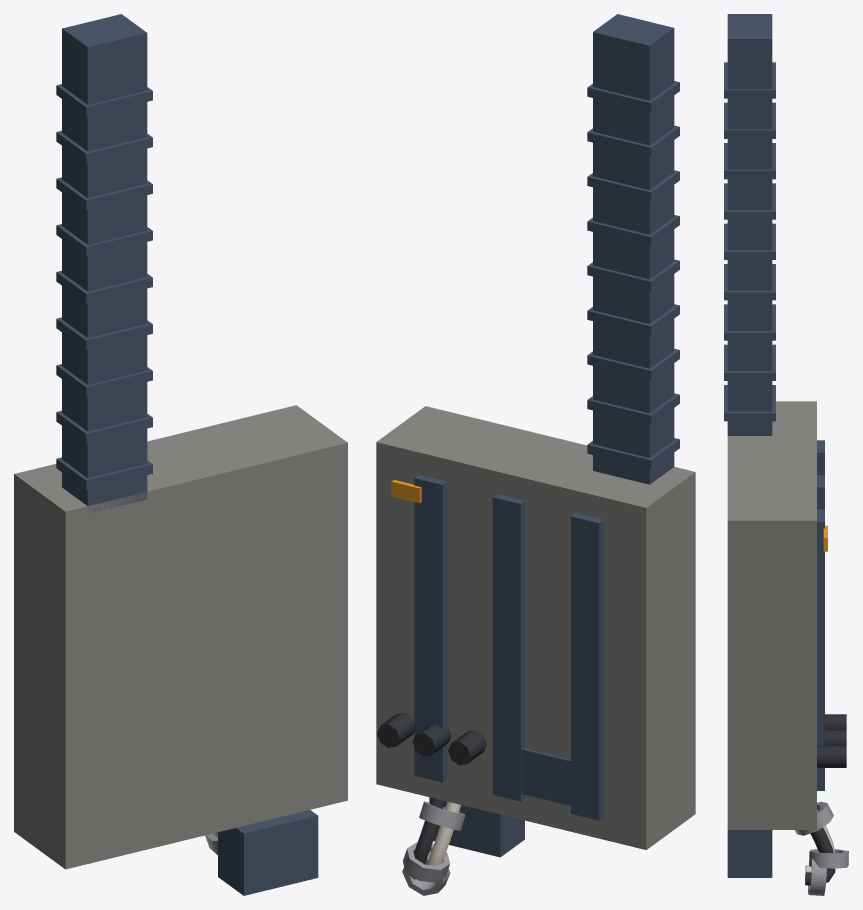
File: mp8_ignition.obj
3 renders of one model, left to right at view 1: azimuth 30°, elevation 25°; view 2: azimuth 150°, elevation 25°; view 3: azimuth 270°, elevation 25°, orthographic. The views are drawn at different scales.
Parts seen in each view (by area): view 1: mp8_ignition; view 2: mp8_ignition; view 3: mp8_ignition.
Boxes of the visible parts, x1,y1,x2,y2 form: mp8_ignition: (14, 14, 347, 895); mp8_ignition: (376, 14, 695, 895); mp8_ignition: (724, 14, 848, 895).
Size of the model in its own units: 0.38 by 1.18 by 0.1681.
